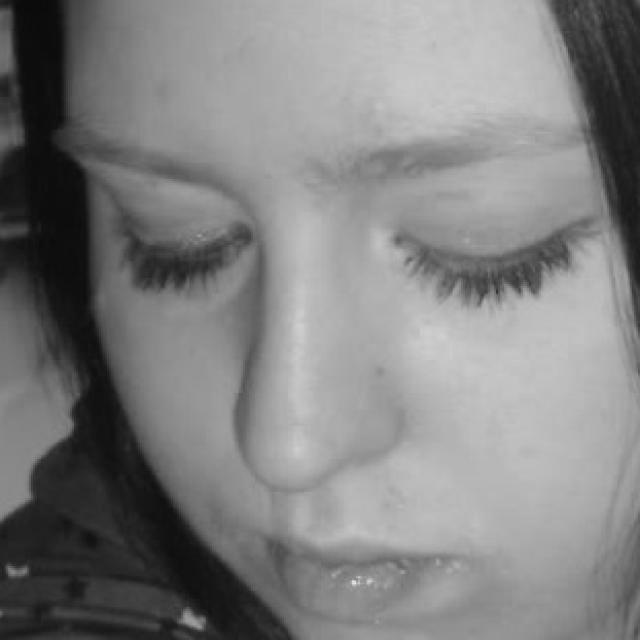real: (76, 104, 626, 624), (115, 168, 579, 321)
